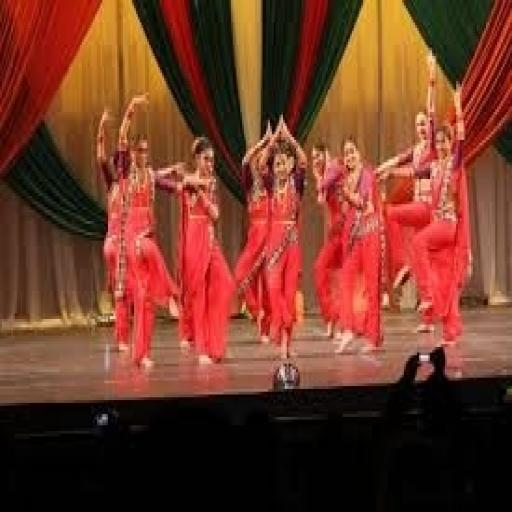dancing: (214, 61, 479, 411), (95, 90, 190, 372), (173, 132, 237, 366)
